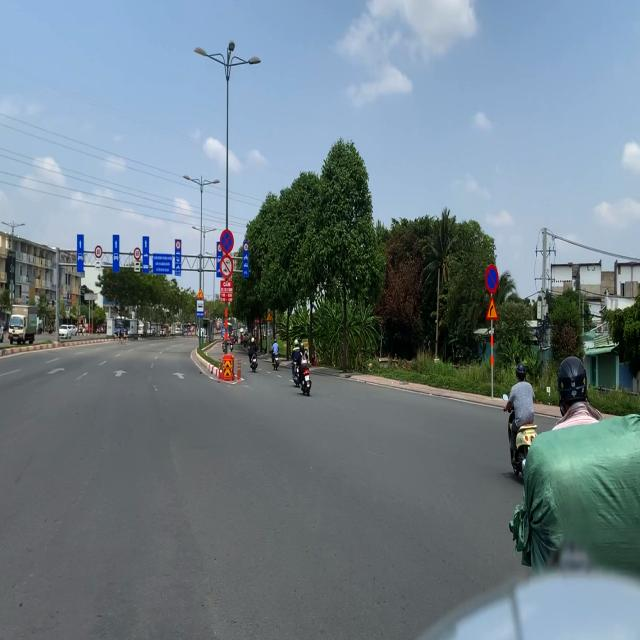Ben xe buyt: (197, 300, 204, 317)
Cam con lai: (220, 254, 234, 279)
Cam do: (485, 264, 499, 294)
Cam dung va do: (220, 229, 234, 254)
Nguoi di bo cat ngang: (266, 312, 272, 322)
Nguy hiem: (486, 295, 498, 320), (197, 288, 204, 299)
Toc do toi da: (95, 245, 102, 258), (134, 247, 141, 260), (176, 240, 180, 250), (217, 244, 222, 252), (244, 242, 248, 252)
